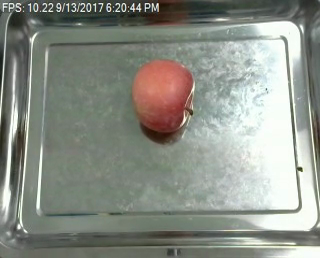Apple: (127, 58, 197, 134)
